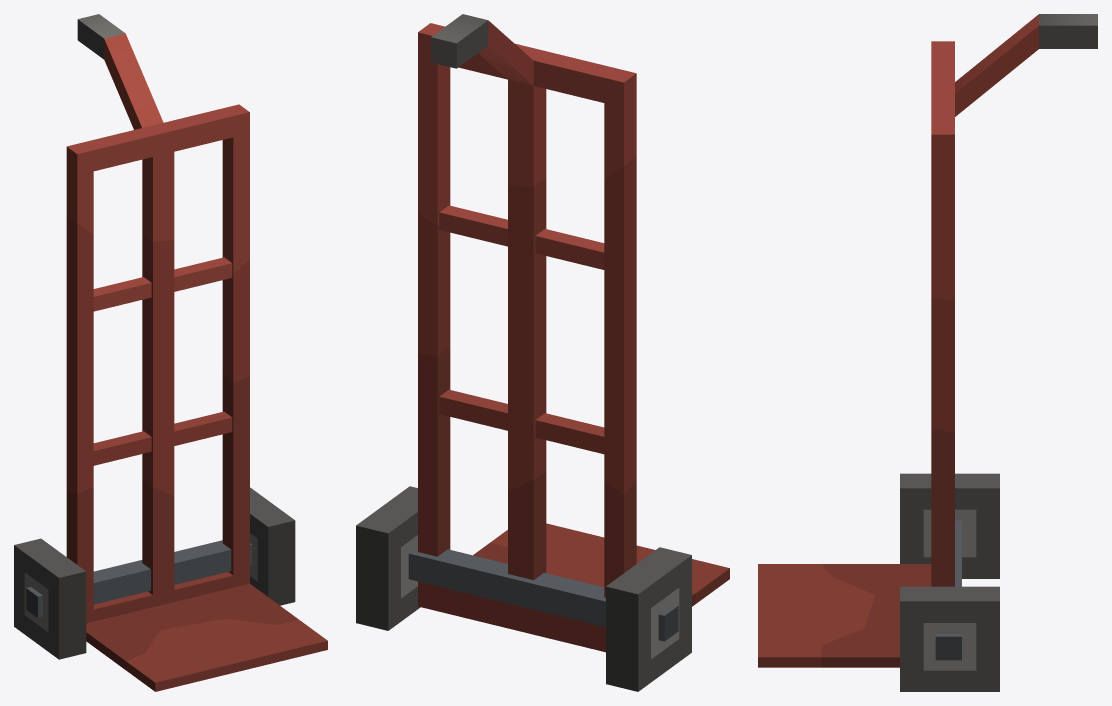
The model's file is AI_Prop_CarryCart.fbx.
3 views of the same model, side by side, from view 1: azimuth 30°, elevation 25°; view 2: azimuth 150°, elevation 25°; view 3: azimuth 270°, elevation 25° (orthographic). The views are drawn at different scales.
Parts seen in each view (by area): view 1: AI_Prop_CarryCart; view 2: AI_Prop_CarryCart; view 3: AI_Prop_CarryCart.
Part boxes in pixels (x1,y1,x2,y2): AI_Prop_CarryCart: (14,14,327,691); AI_Prop_CarryCart: (356,14,729,691); AI_Prop_CarryCart: (758,14,1097,691).
Bounding box in the file's own units: 0.8947 × 1.91 × 0.9656.
